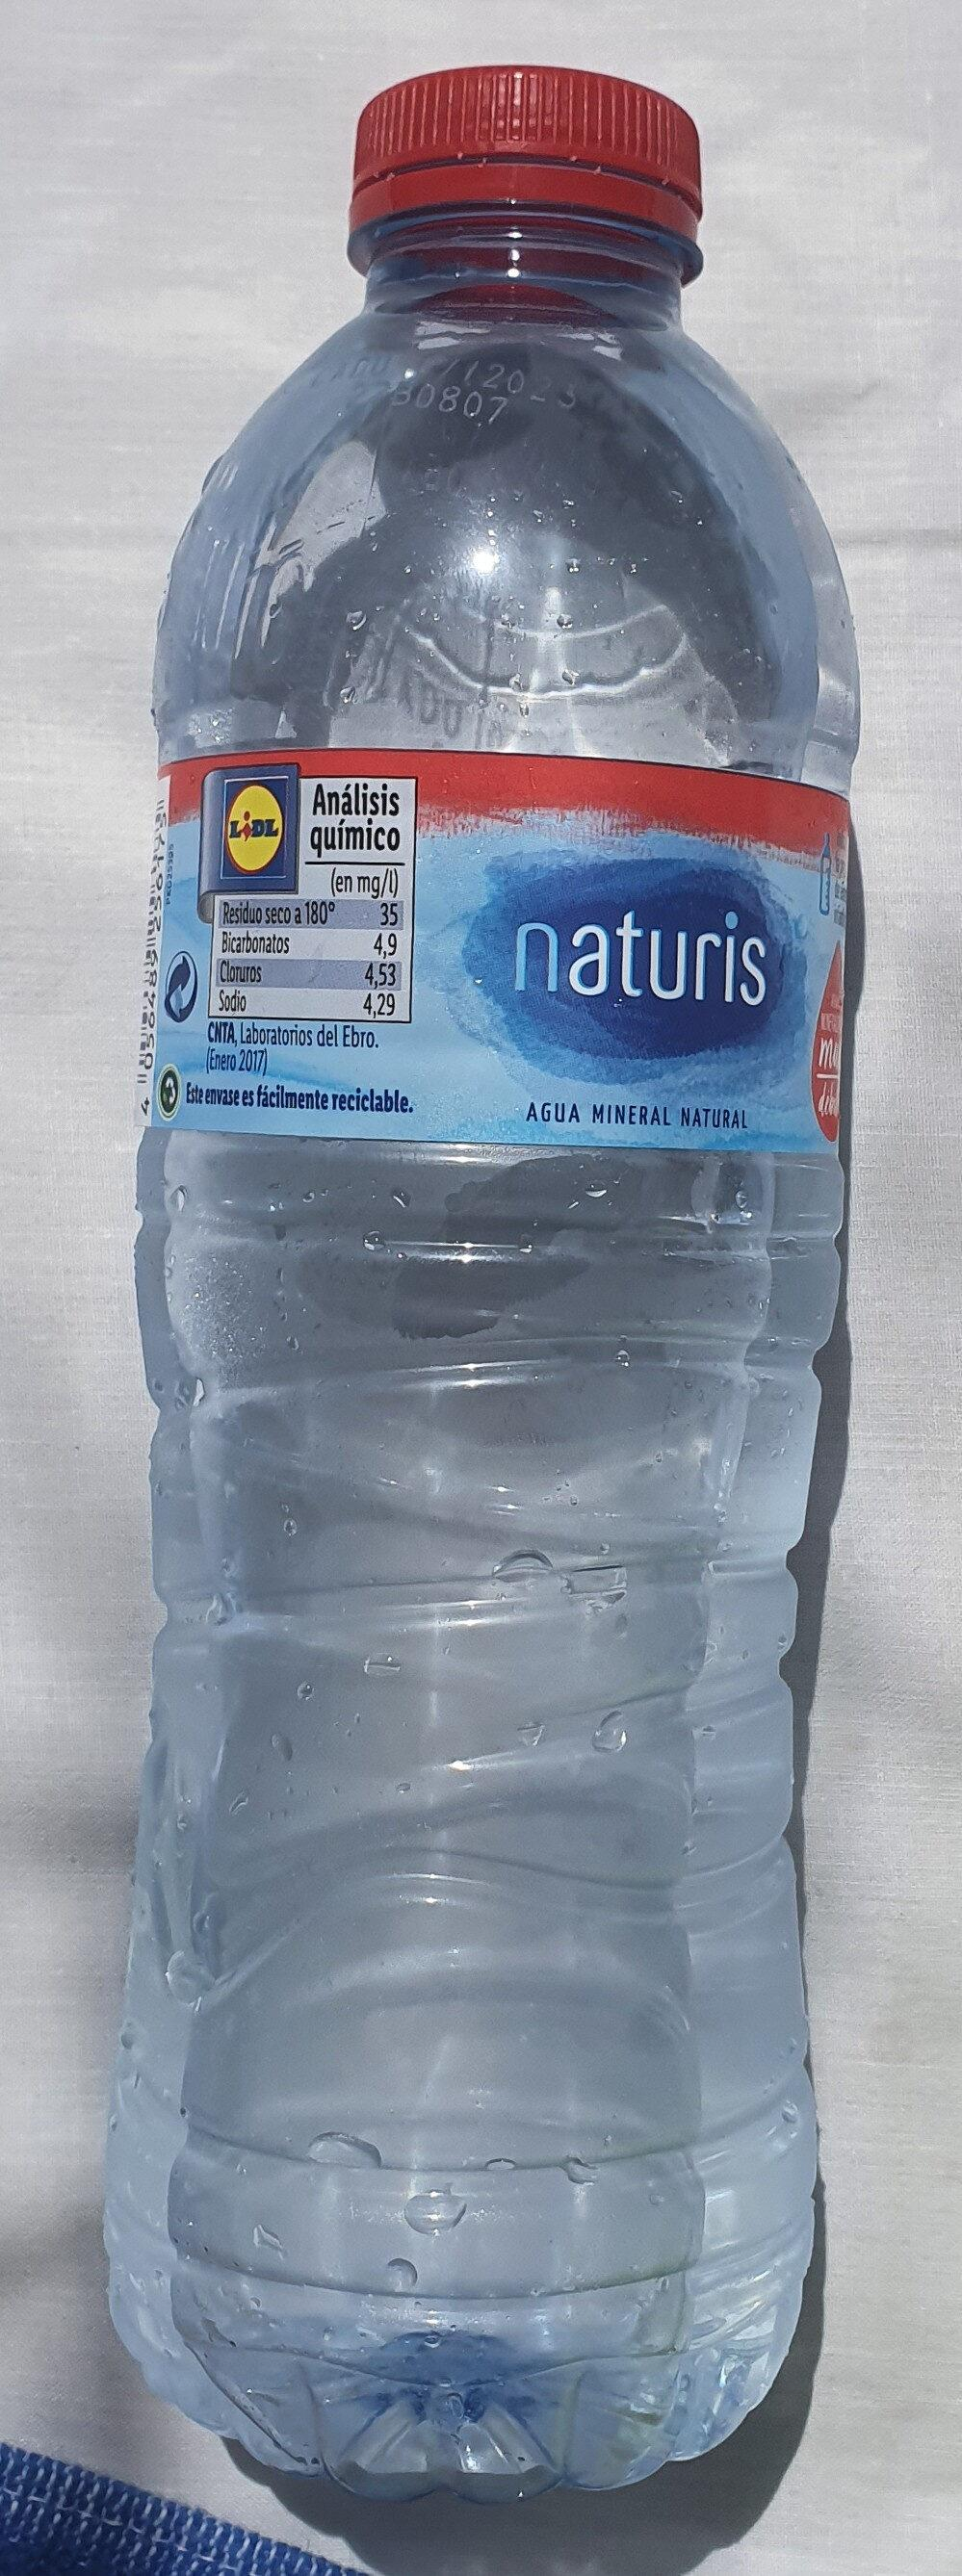bottle: (69, 25, 850, 2530)
